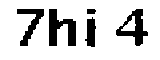4: (111, 5, 151, 52)
7: (12, 5, 45, 51)
h: (47, 6, 79, 51)
i: (84, 6, 102, 52)
